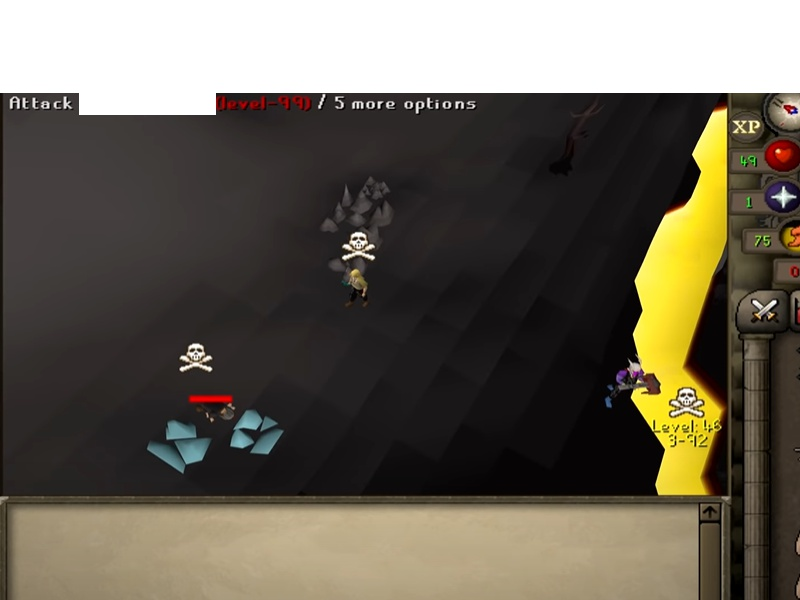rune: (143, 416, 213, 475), (228, 406, 285, 460)
